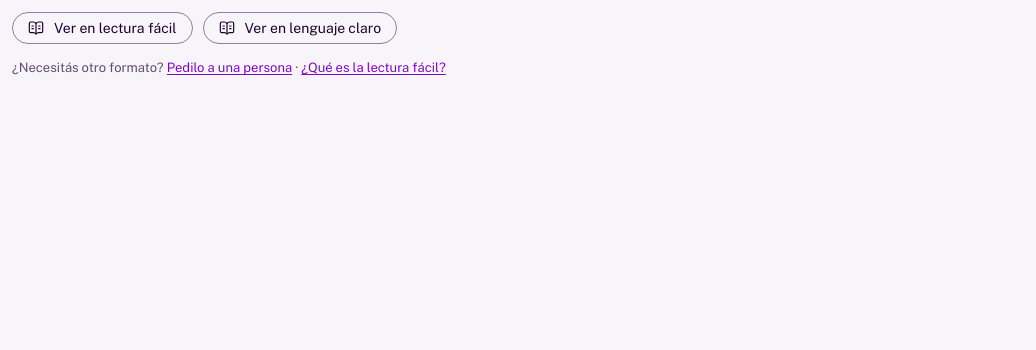
Test: AccessibleVersionPanel › si la pidió otra persona (caché compartida) no ofrece "Me sirve"
The width and height of the screenshot is (1036, 350).
Click the button "Ver en lectura fácil" at (102, 28), box [12,12,192,44]
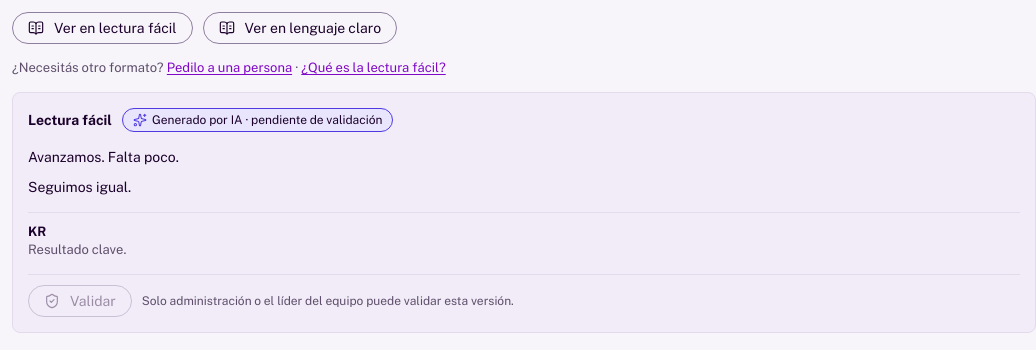
Expected: the element with test id "adapted-text" is shown, [28,149,179,195]
